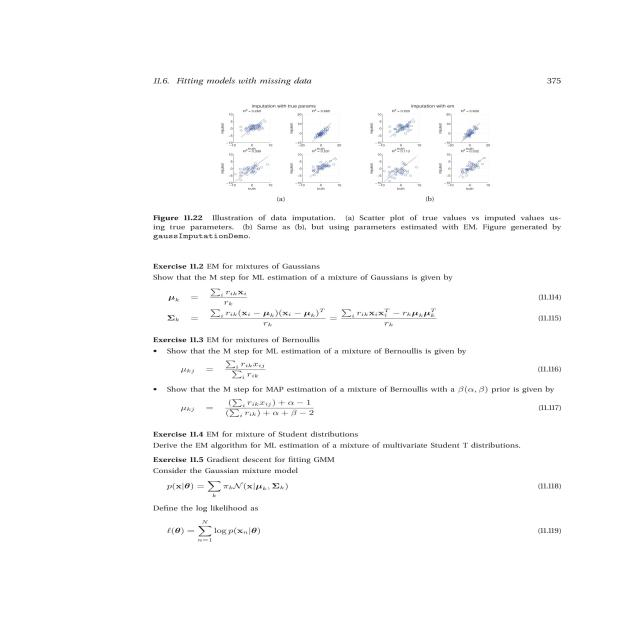diagram: (101, 90, 588, 251)
